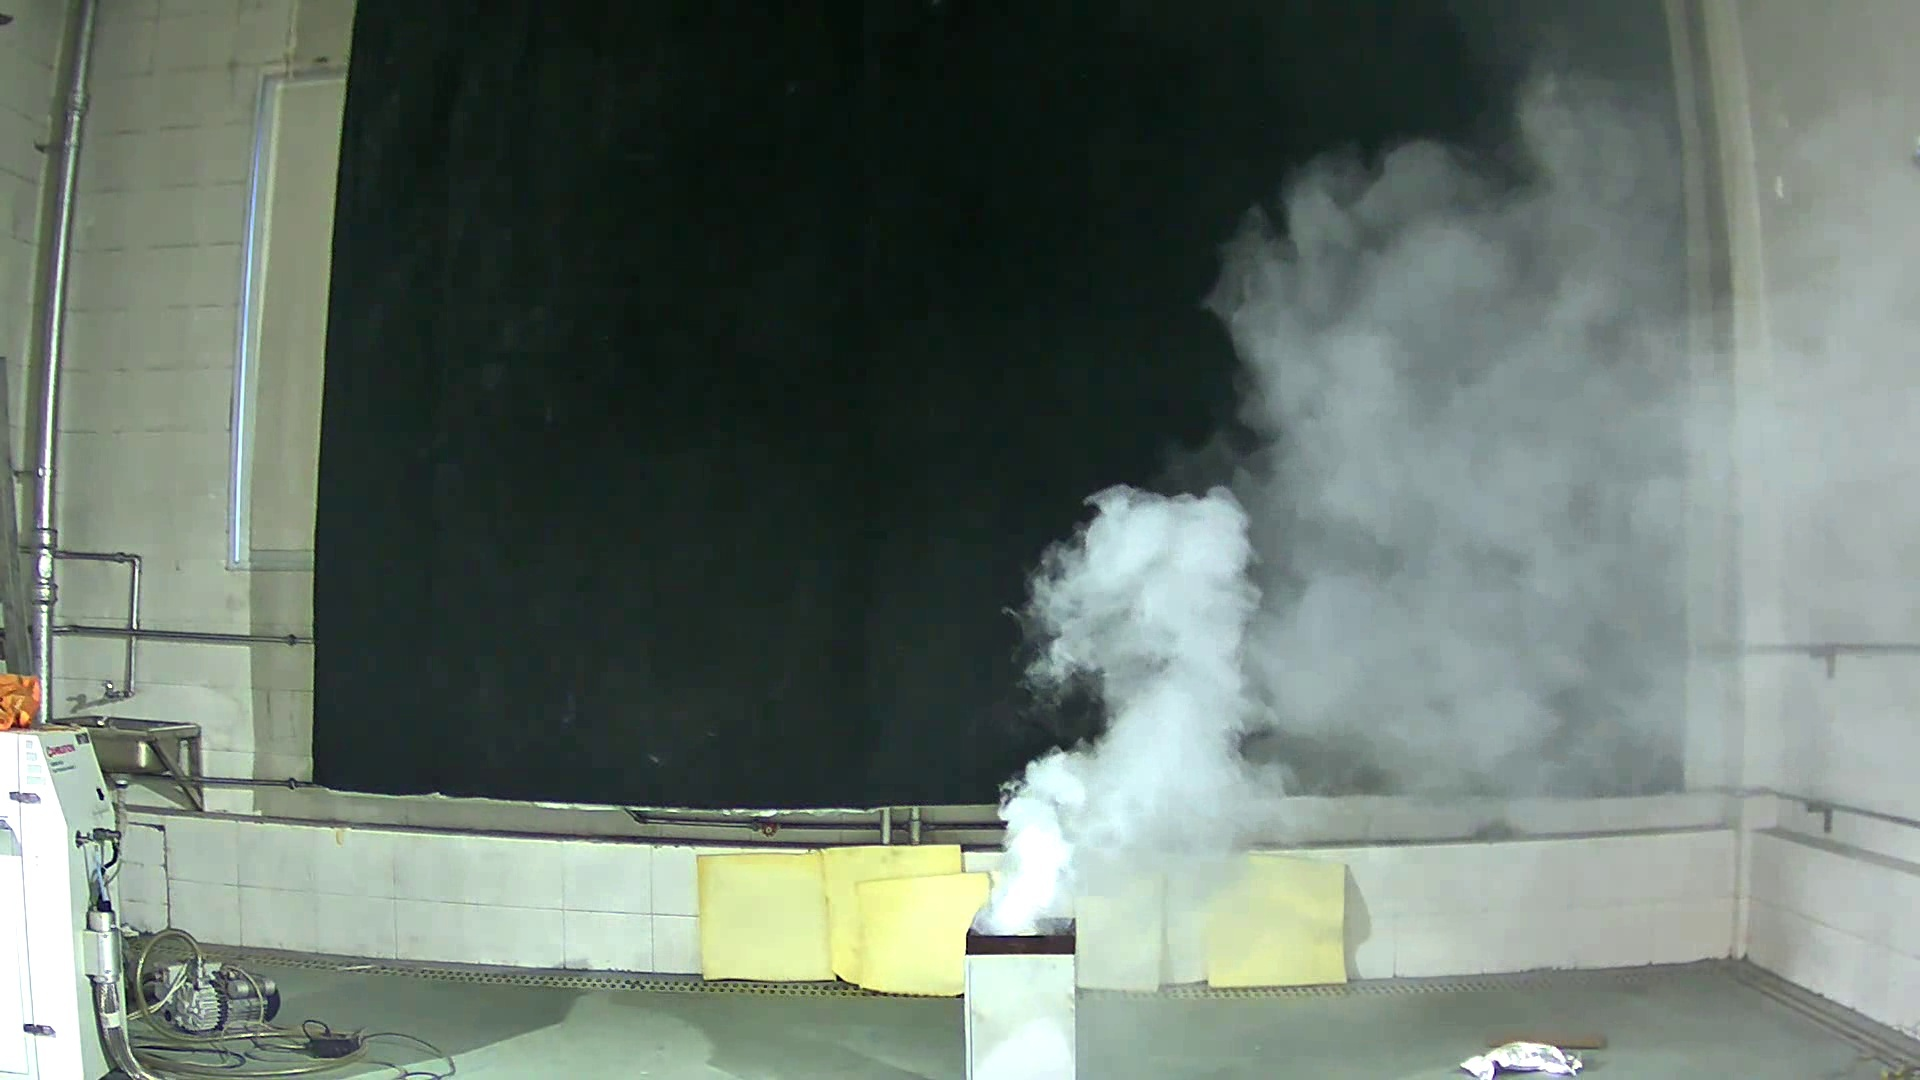smoke: (978, 123, 1745, 930)
